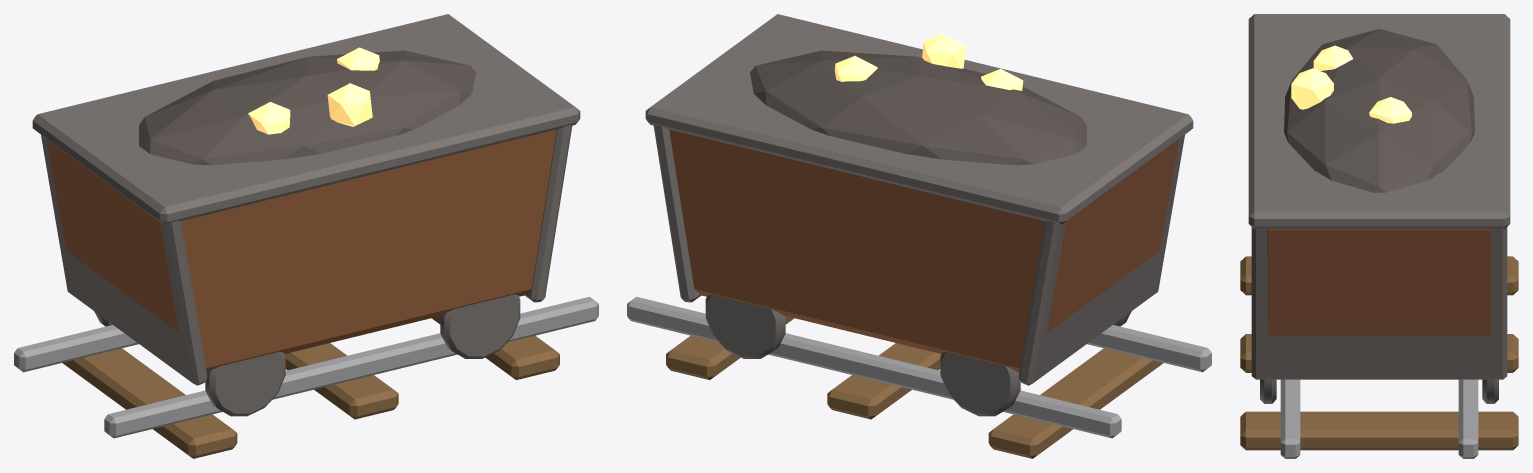
Rendered from mine_cart.glb.
3 renders of one model, left to right at view 1: azimuth 30°, elevation 25°; view 2: azimuth 150°, elevation 25°; view 3: azimuth 270°, elevation 25°, orthographic.
Visible parts, largest first — view 1: mine_cart; view 2: mine_cart; view 3: mine_cart.
Part boxes in pixels (left/top/right/bottom): mine_cart: left=14, top=14, right=598, bottom=458; mine_cart: left=627, top=14, right=1211, bottom=458; mine_cart: left=1240, top=14, right=1518, bottom=458.
Bounding box in the file's own units: 1 × 0.595 × 0.5.
